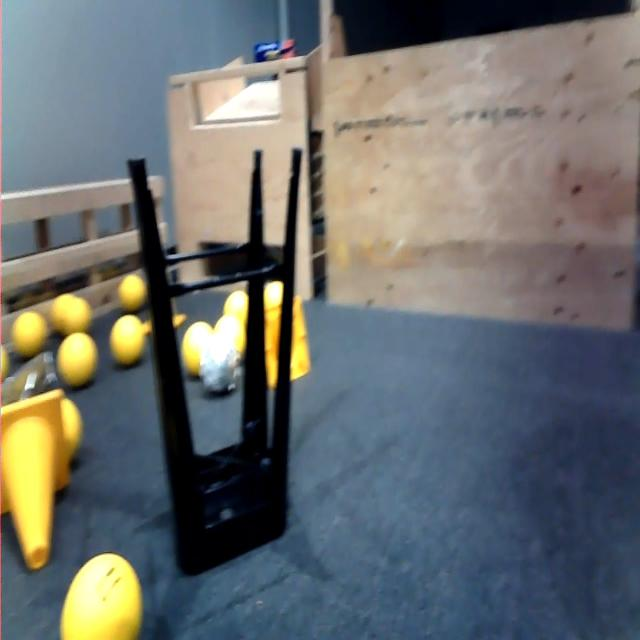fuel: (54, 537, 151, 640), (103, 308, 148, 368), (56, 328, 102, 385), (211, 308, 251, 370), (181, 319, 217, 380), (57, 397, 87, 462), (12, 305, 50, 356), (115, 269, 153, 317), (220, 283, 250, 317), (62, 297, 90, 332)
